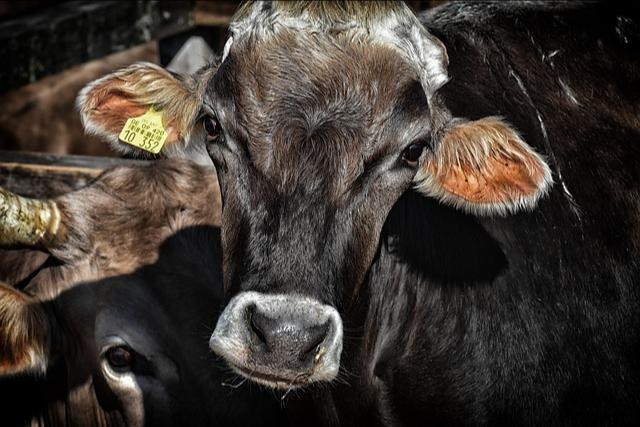Non_Gorille: (14, 7, 640, 417)
